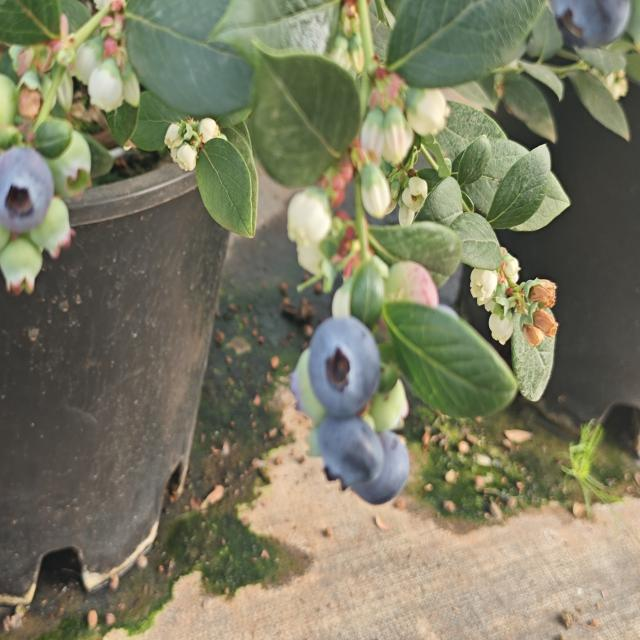ripe: (316, 414, 416, 508), (306, 314, 375, 422), (0, 136, 54, 225), (552, 1, 635, 54)
